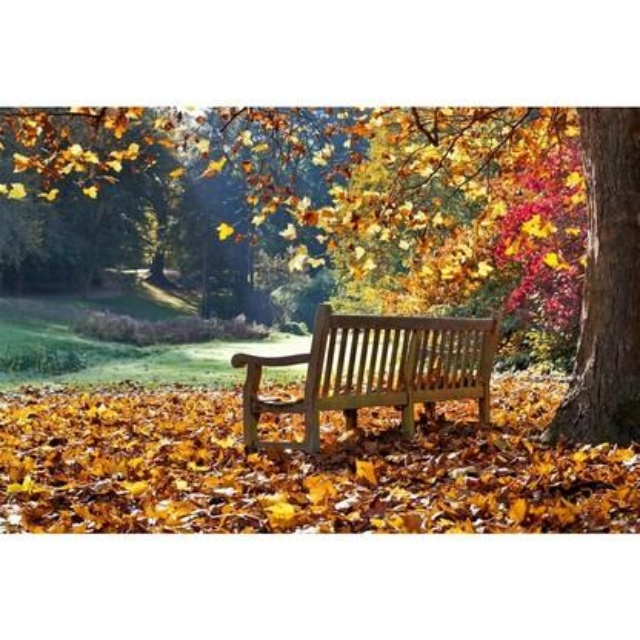obstacle: (226, 295, 503, 468)
